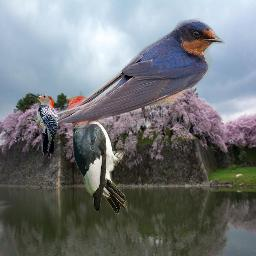Swallow: (31, 18, 225, 128)
Woodpecker: (68, 95, 129, 215), (25, 94, 58, 158)
